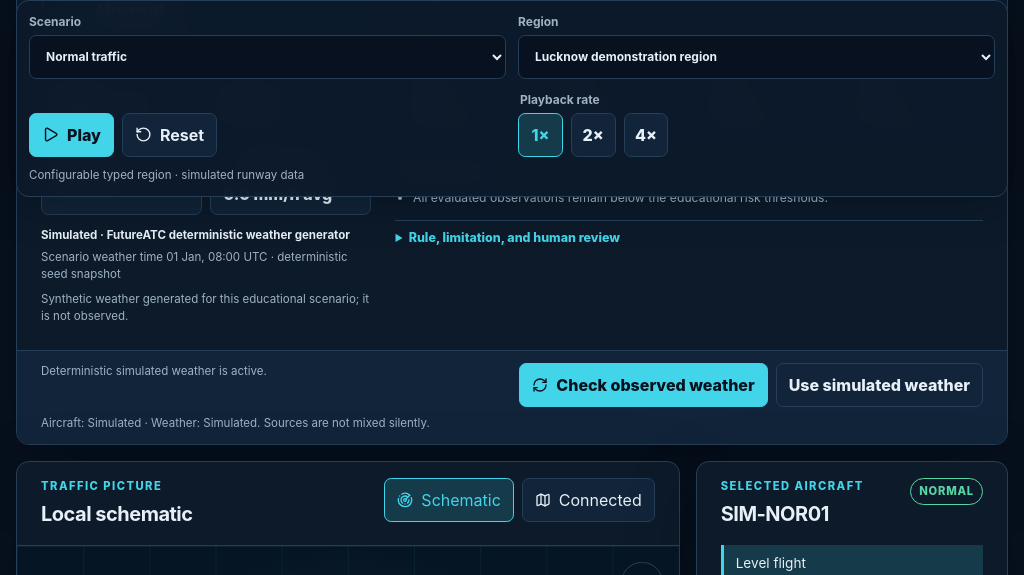
weather provider integration › honors an explicit simulated-weather selection while a request is pending
The image size is (1024, 575).
(page scrolled)
Click the button "Check observed weather": (644,385) [519,363,768,407]
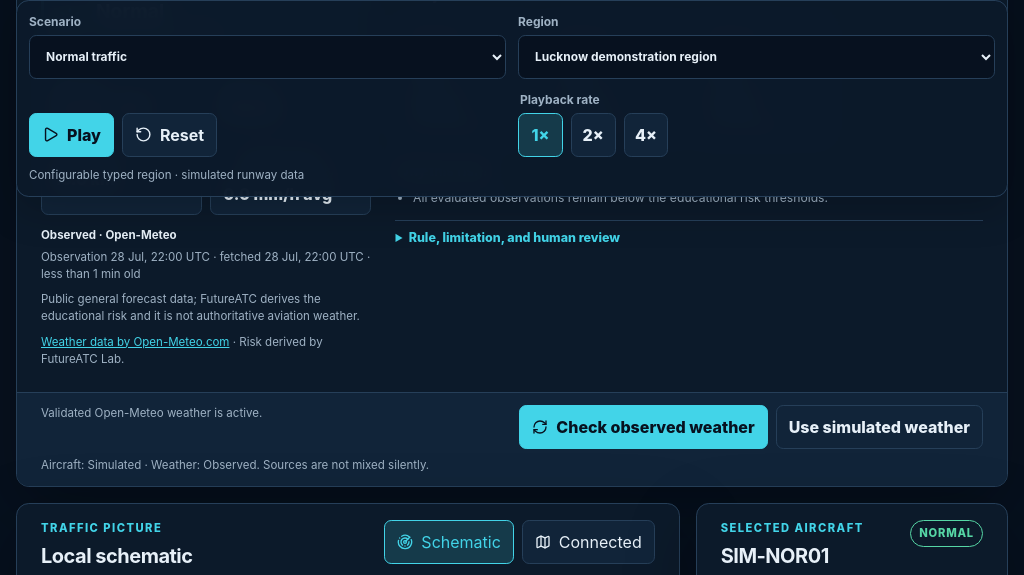
Click the button "Use simulated weather": (879,427) [776,405,983,449]
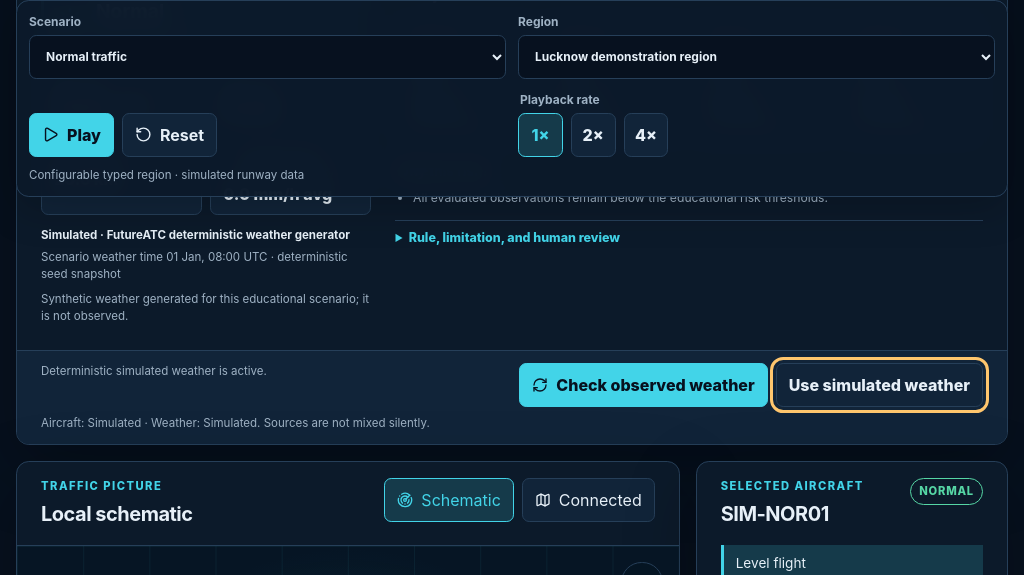
Expected: the text "Observed · Open-Meteo" is gone
